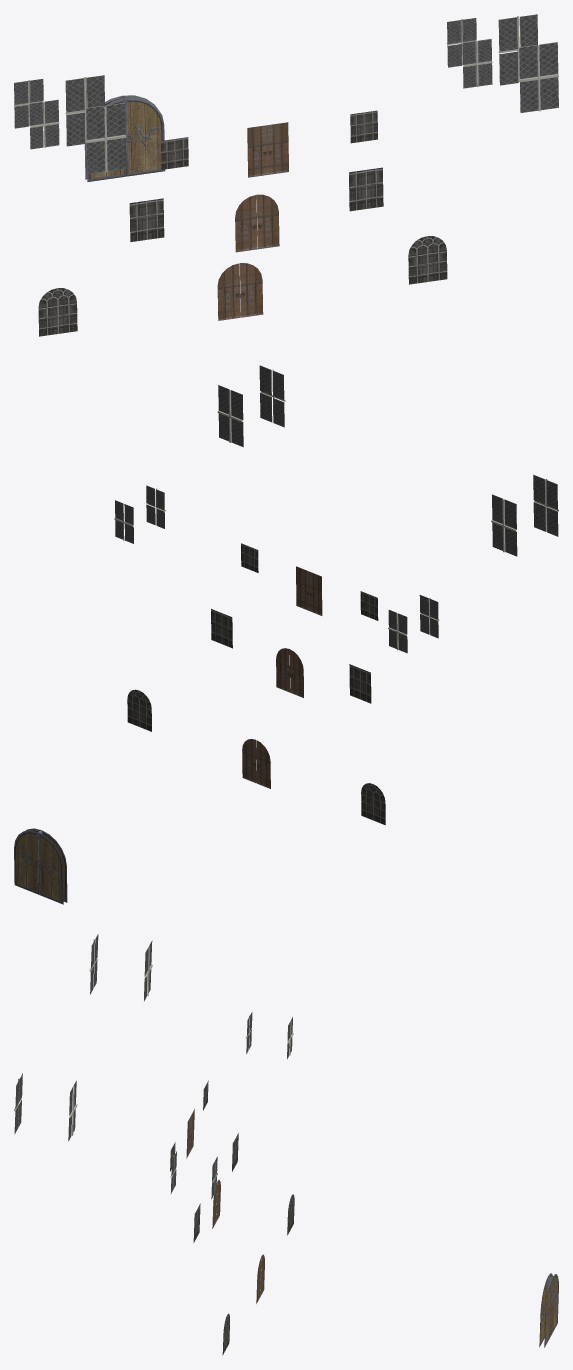
Rendered from doorsAndWindows.obj.
3 views of the same model, one above another, from view 1: azimuth 30°, elevation 25°; view 2: azimuth 150°, elevation 25°; view 3: azimuth 270°, elevation 25° (orthographic). The views are drawn at different scales.
Visible parts, largest first — view 1: Usi_si_geamuri_Castle_OBJ.002; view 2: Usi_si_geamuri_Castle_OBJ.002; view 3: Usi_si_geamuri_Castle_OBJ.002.
Part boxes in pixels (bbox=[...]): Usi_si_geamuri_Castle_OBJ.002: bbox=[14, 14, 558, 336]; Usi_si_geamuri_Castle_OBJ.002: bbox=[14, 365, 558, 904]; Usi_si_geamuri_Castle_OBJ.002: bbox=[14, 934, 558, 1355].
Size of the model in its own units: 19.45 by 14.75 by 25.89.
Materials: 1 (1 with a texture image).
